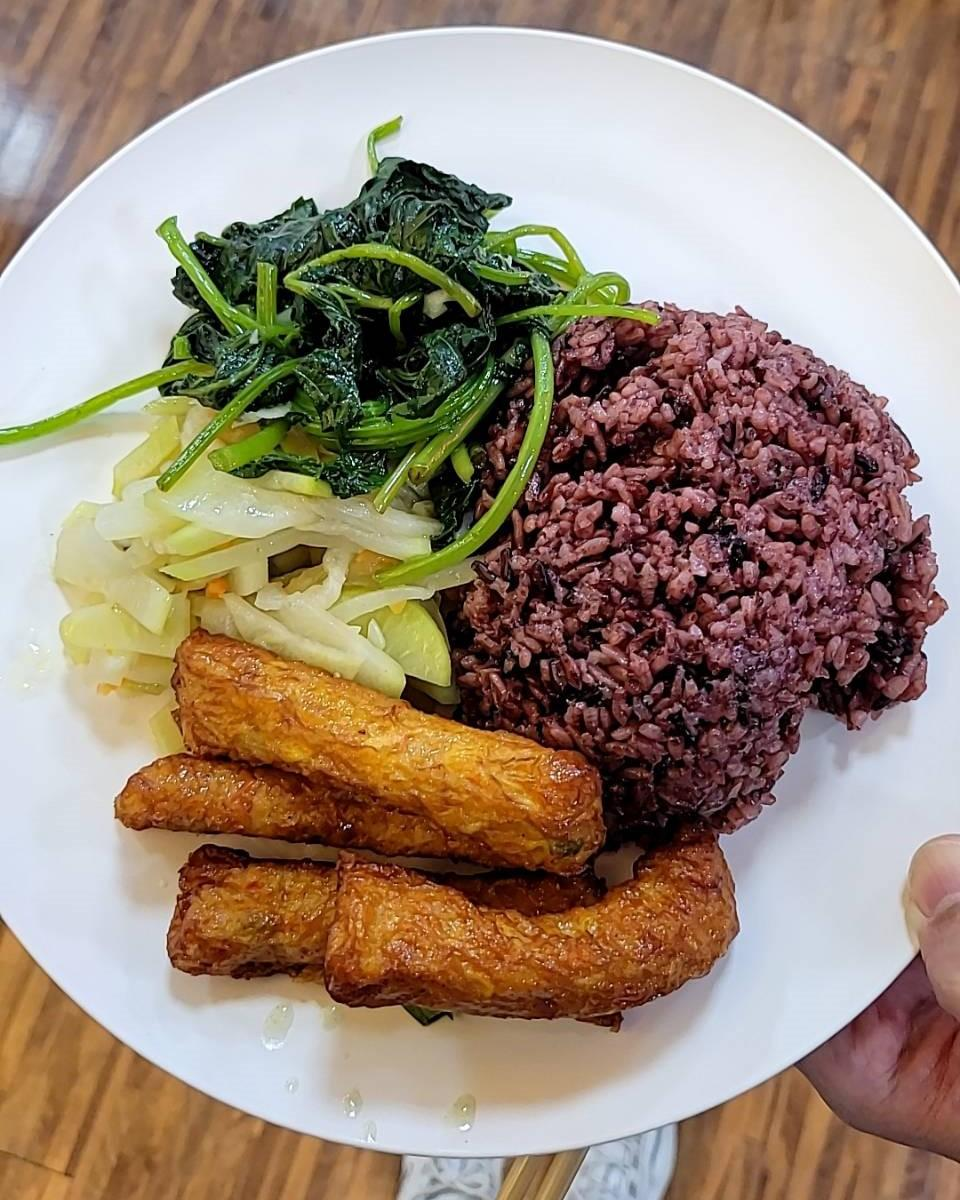big fried chicken leg: (0, 30, 960, 1170)
braised fish: (421, 285, 943, 850)
braised fish fillet: (121, 146, 593, 479), (45, 393, 441, 716)
braised pork: (110, 623, 755, 1048)
